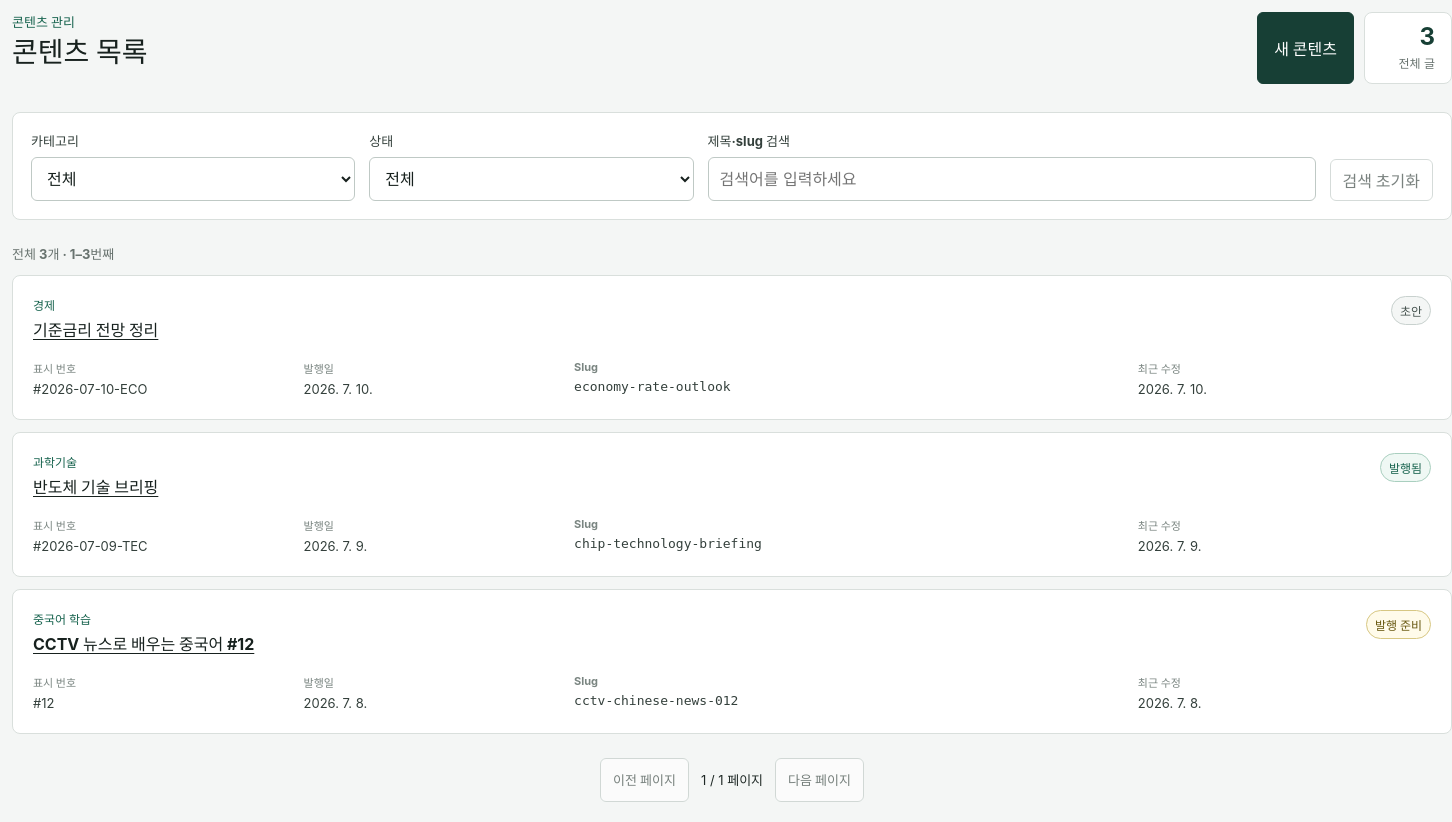
Test: ContentPage › filters posts by category
The width and height of the screenshot is (1452, 822).
Expected: the heading "기준금리 전망 정리" is shown, x1=33 y1=318 x2=158 y2=342
Select "과학기술" in the dropdown labelled "카테고리": (193, 179) x1=31 y1=157 x2=355 y2=201
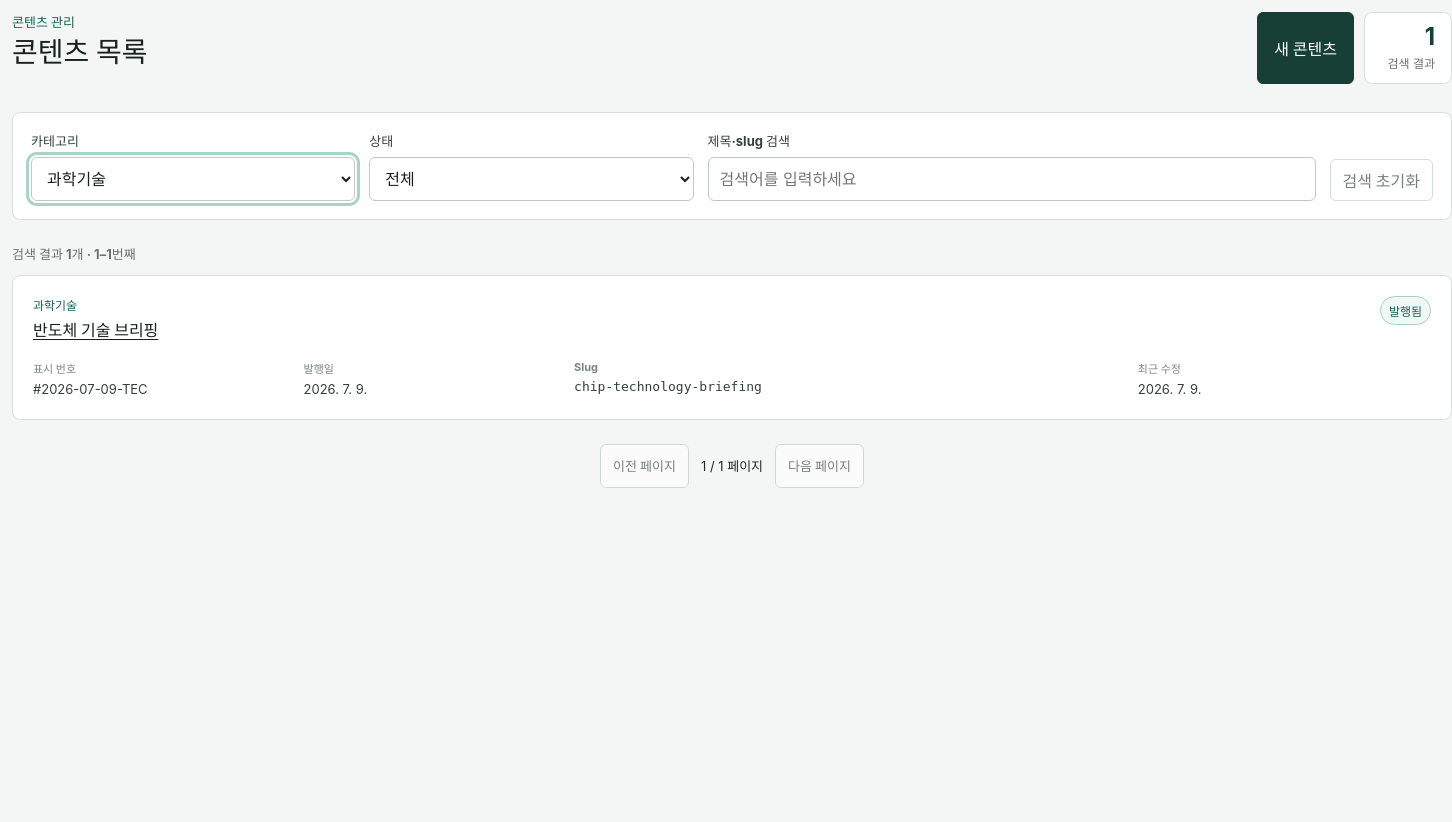
Expected: the heading "반도체 기술 브리핑" is shown, x1=33 y1=318 x2=158 y2=342
Now the link "기준금리 전망 정리" is gone
